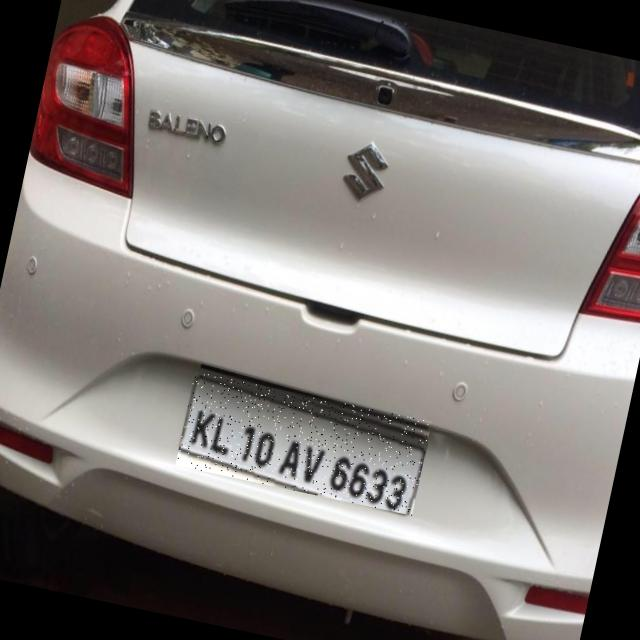Plate: (176, 372, 433, 516)
